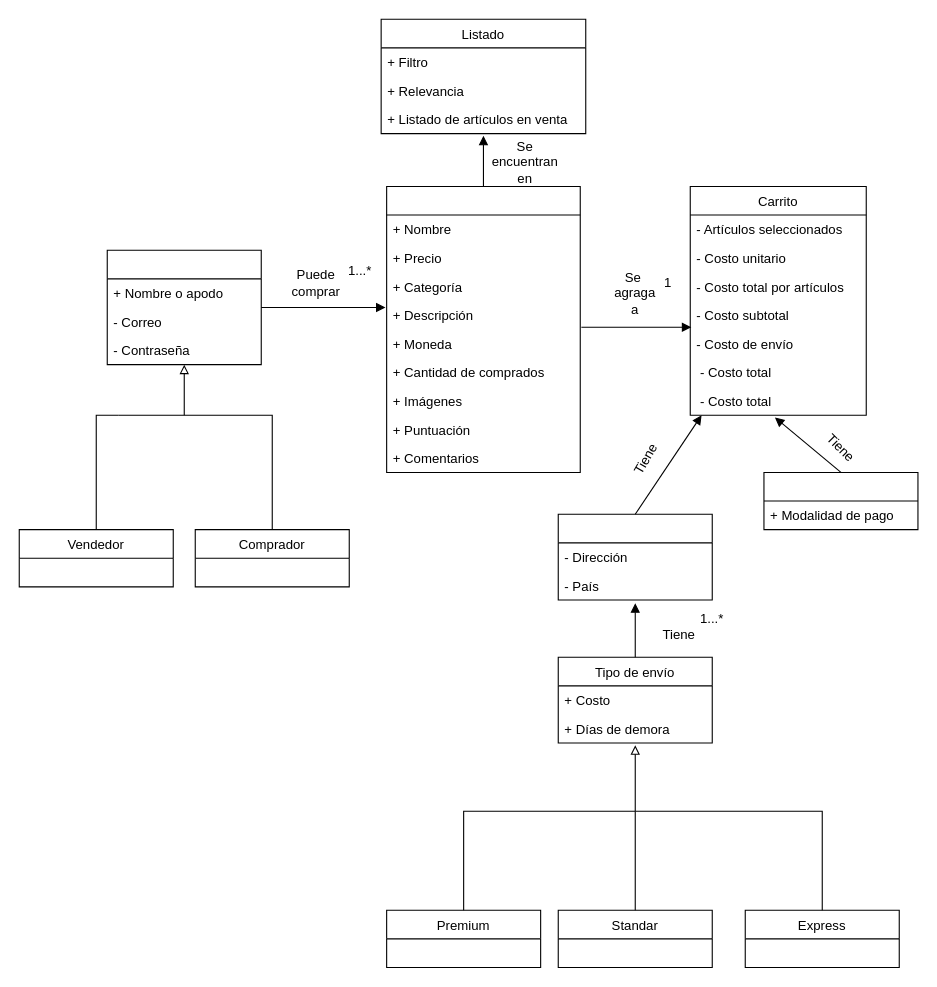
This 937x987 diagram has some shape labels left out. The shapes that lost their labels are listed below. From the top down, each one's box as (x1, y1, x2, y2) in pixels, then its label:
(106, 249, 261, 365): Usuario
(386, 185, 580, 472): Artículos
(763, 471, 918, 530): Forma de pago
(557, 513, 712, 600): Método de Envío
